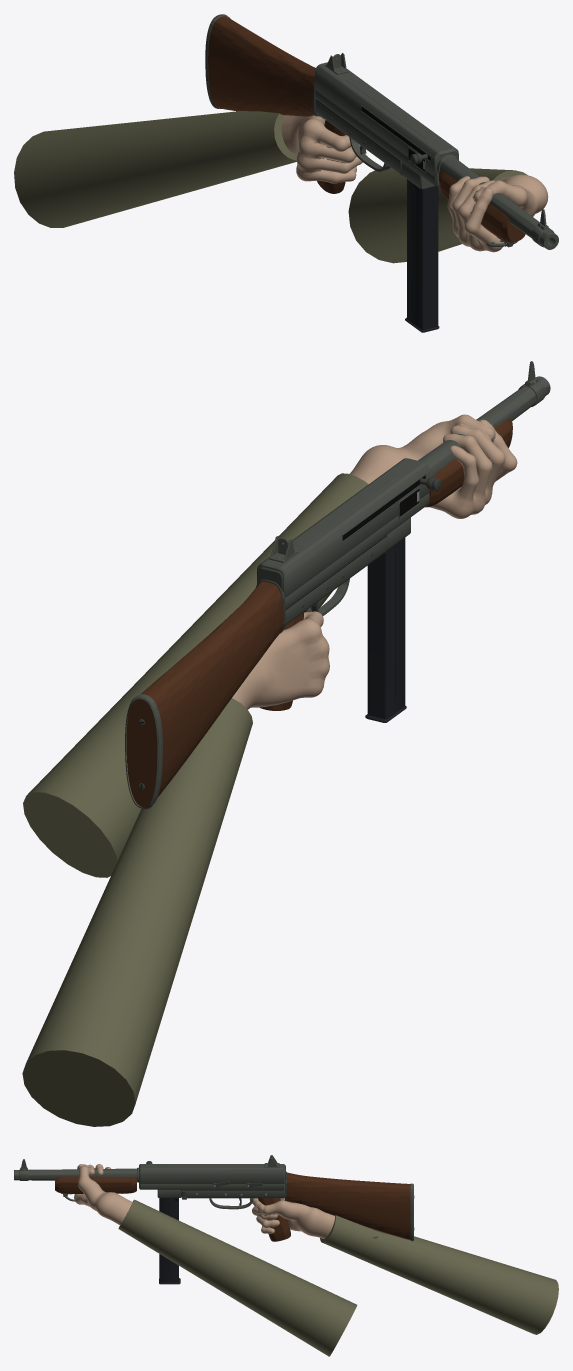
Rendered from thompson.glb.
3 renders of one model, top to bottom at view 1: azimuth 30°, elevation 25°; view 2: azimuth 150°, elevation 25°; view 3: azimuth 270°, elevation 25°, orthographic. The views are drawn at different scales.
Visible parts, largest first — view 1: thompson-parts, view-sleeve-r, view-sleeve-l, hand-l, hand-r; view 2: view-sleeve-r, thompson-parts, view-sleeve-l, hand-l, hand-r; view 3: thompson-parts, view-sleeve-l, view-sleeve-r, hand-r, hand-l.
Boxes of the visible parts, x1,y1,x2,y2 form: thompson-parts: (205,14,558,332); view-sleeve-r: (14,111,297,227); view-sleeve-l: (348,167,534,263); hand-l: (447,174,548,252); hand-r: (281,115,362,183); view-sleeve-r: (22,698,252,1126); thompson-parts: (125,361,550,809); view-sleeve-l: (23,473,368,877); hand-l: (350,414,517,518); hand-r: (232,611,329,709); thompson-parts: (14,1155,414,1284); view-sleeve-l: (118,1199,357,1356); view-sleeve-r: (320,1215,558,1334); hand-r: (249,1198,334,1238); hand-l: (74,1164,132,1225).
Bounding box in the file's own units: 0.364 × 0.4271 × 1.11.
